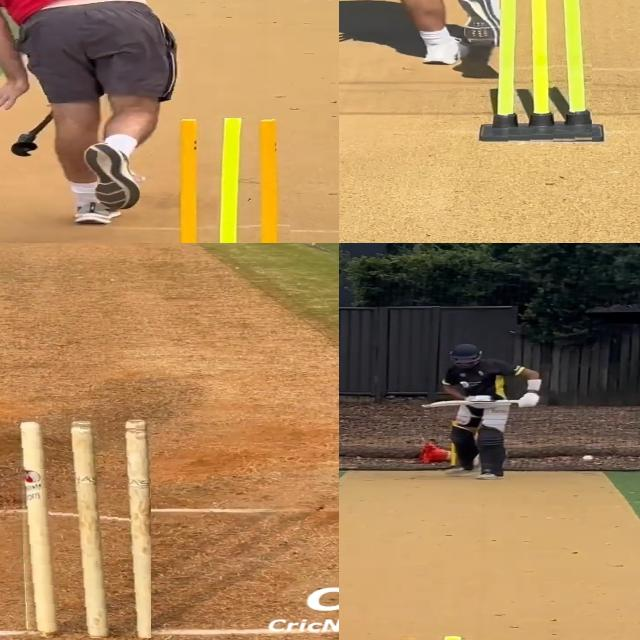Cricket ball: (582, 455, 594, 462)
Stumps: (17, 418, 151, 638), (169, 118, 290, 243), (495, 0, 592, 144)
